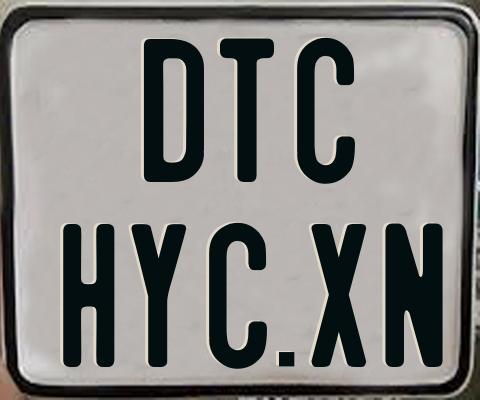C: (208, 223, 271, 370), (297, 38, 358, 188)
D: (142, 39, 208, 185)
H: (61, 221, 113, 366)
N: (385, 221, 446, 368)
T: (219, 36, 276, 183)
X: (311, 221, 372, 369)
Y: (129, 223, 190, 368)
